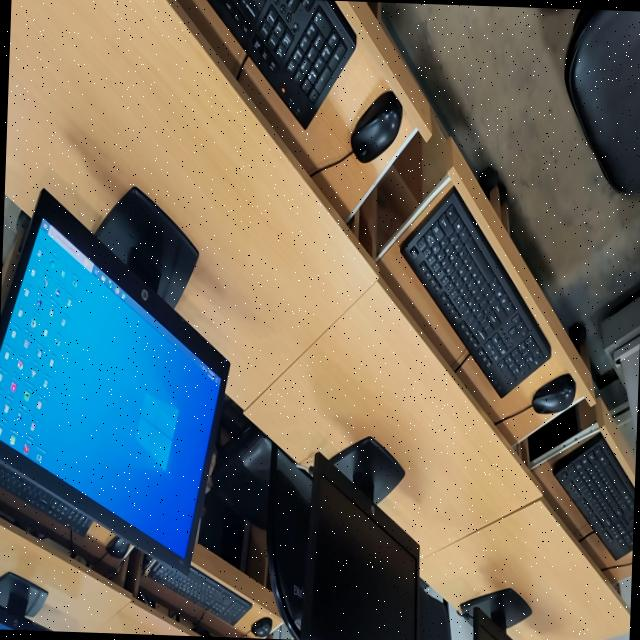Chair: (230, 431, 310, 639), (562, 8, 640, 189)
Keyboard: (414, 196, 536, 397), (205, 0, 348, 127), (564, 432, 636, 560), (0, 466, 92, 535), (172, 576, 245, 622)
Monitor: (1, 194, 230, 579), (307, 435, 422, 640), (474, 584, 533, 640), (0, 583, 59, 631)
Mouse: (350, 90, 404, 164), (533, 371, 576, 414), (102, 535, 128, 560), (248, 613, 274, 638)
